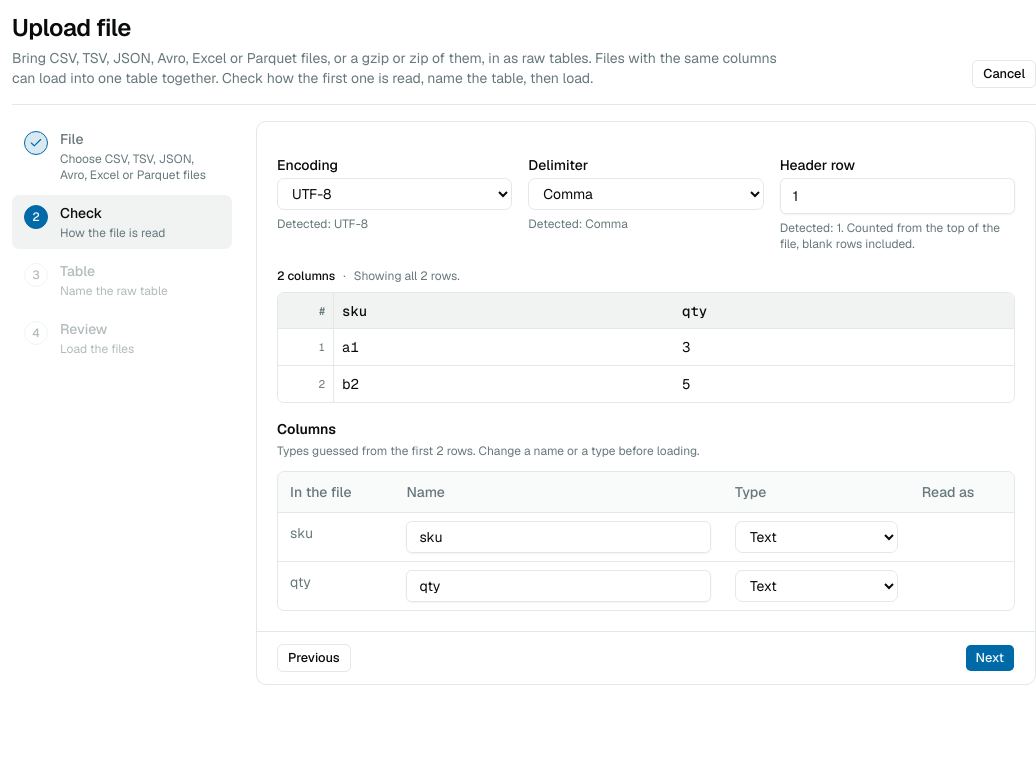
Test: UploadFilePage, Table step › offers Replace or Add only for a table an earlier upload loaded
The image size is (1036, 780).
expect the dropdown labelled "Encoding" is shown: met, box [277, 178, 512, 210]
Click the button "Next" at (990, 658), box [964, 644, 1015, 672]
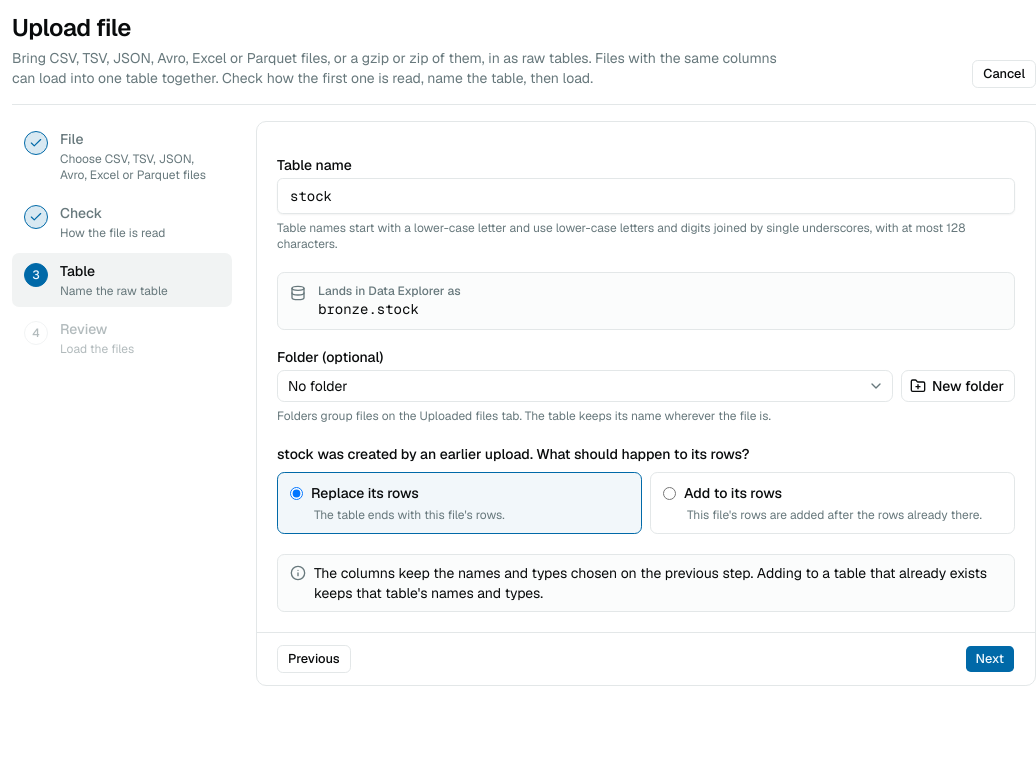
expect the field labelled "Table name" is shown: met
expect the radio button labelled "Replace its rows" is checked: met, box [290, 486, 303, 500]
expect the radio button labelled "Add to its rows" is not checked: met, box [663, 486, 676, 500]
Replace the text in the field labelled "Table name" with "stock_b" at (646, 196), box [277, 178, 1015, 214]
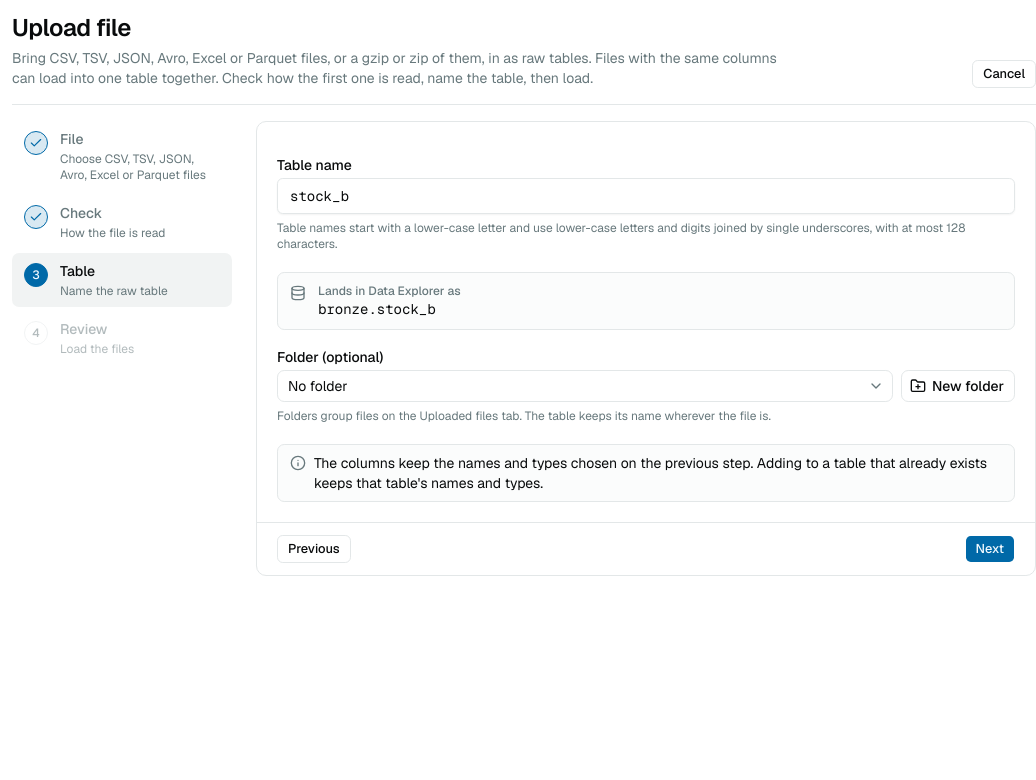
expect the label "Replace its rows" is gone: met
expect the label "Add to its rows" is gone: met
